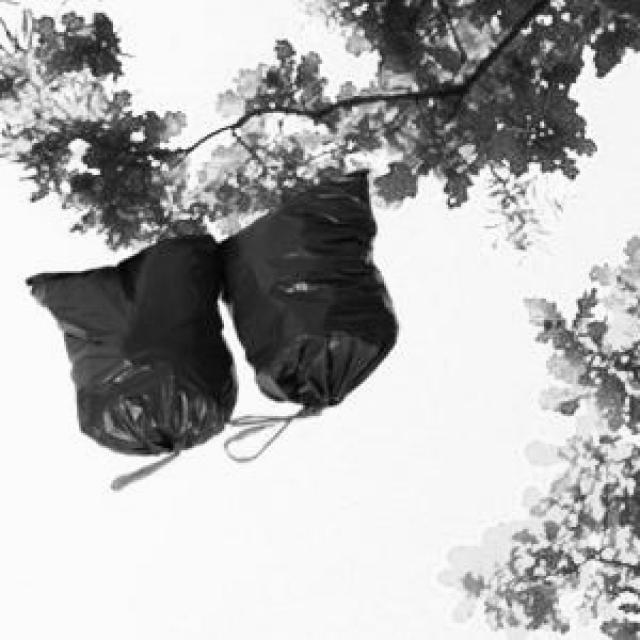miscellaneous trash: (21, 166, 395, 478)
